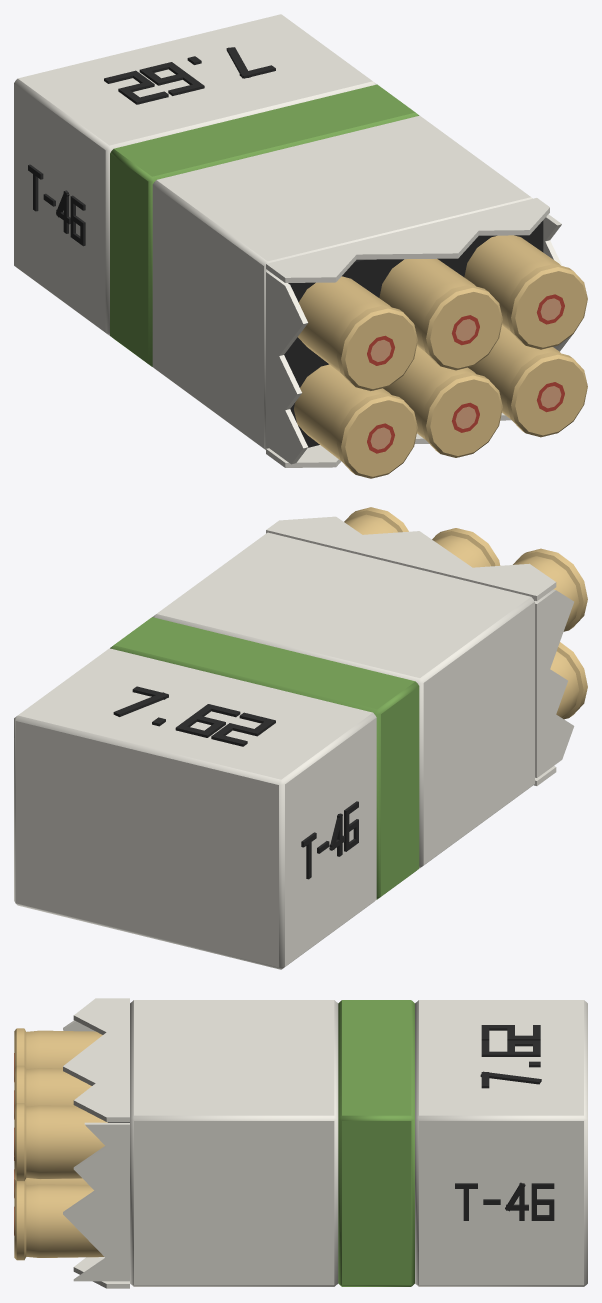
File: ammo_762r_tracer.glb
3 renders of one model, top to bottom at view 1: azimuth 30°, elevation 25°; view 2: azimuth 150°, elevation 25°; view 3: azimuth 270°, elevation 25°, orthographic. The views are drawn at different scales.
Visible parts, largest first — view 1: body; view 2: body; view 3: body.
Part boxes in pixels (x1=…): body: x1=14, y1=14, x2=587, y2=478; body: x1=14, y1=507, x2=587, y2=969; body: x1=14, y1=998, x2=587, y2=1288.
Bounding box in the file's own units: 0.0448 × 0.0299 × 0.0896.
